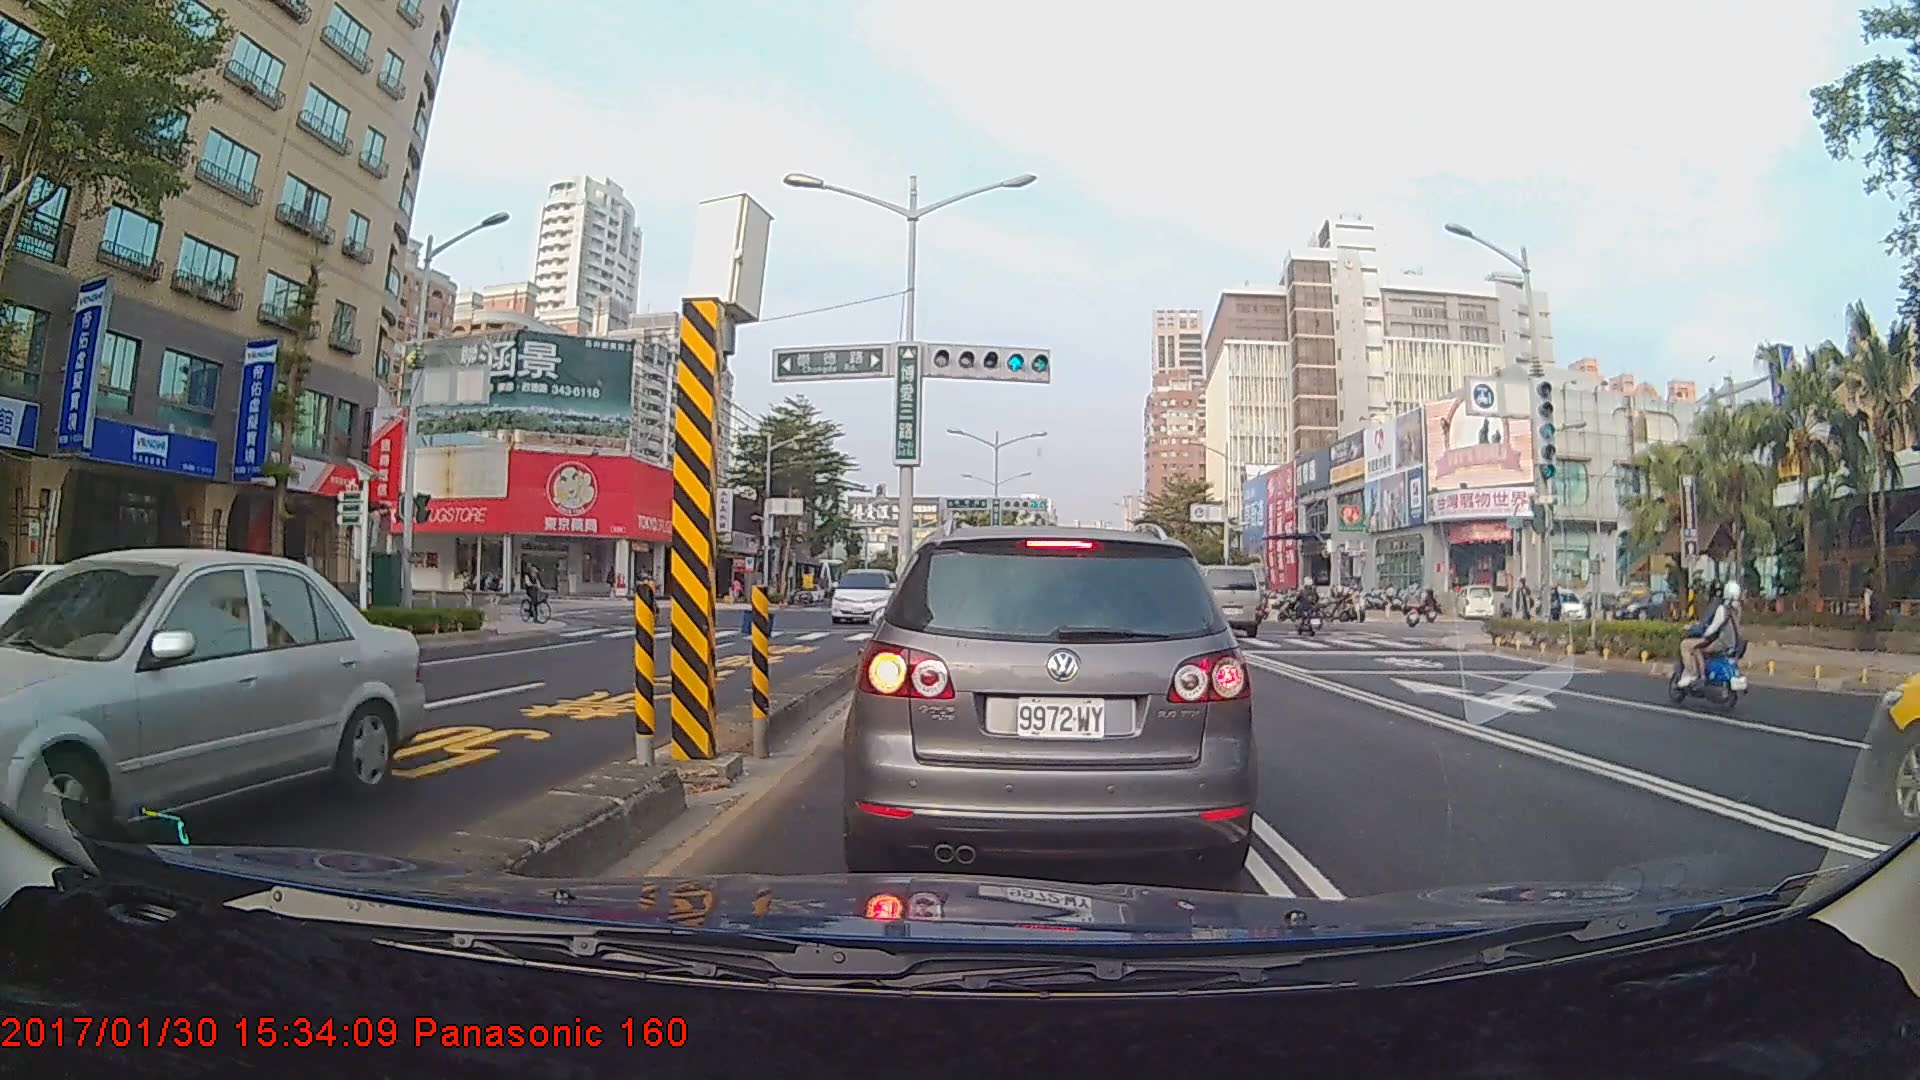pedestrian: (1854, 580, 1881, 654)
rider: (1659, 570, 1761, 724), (518, 559, 561, 629), (1293, 580, 1331, 639), (1398, 582, 1423, 634)
vehicle: (855, 523, 1248, 881), (0, 544, 425, 873), (1158, 562, 1263, 638), (828, 566, 903, 625)
